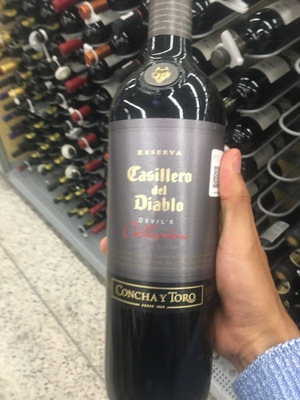casillero del diablo devils collection rojo: (94, 13, 250, 400)
